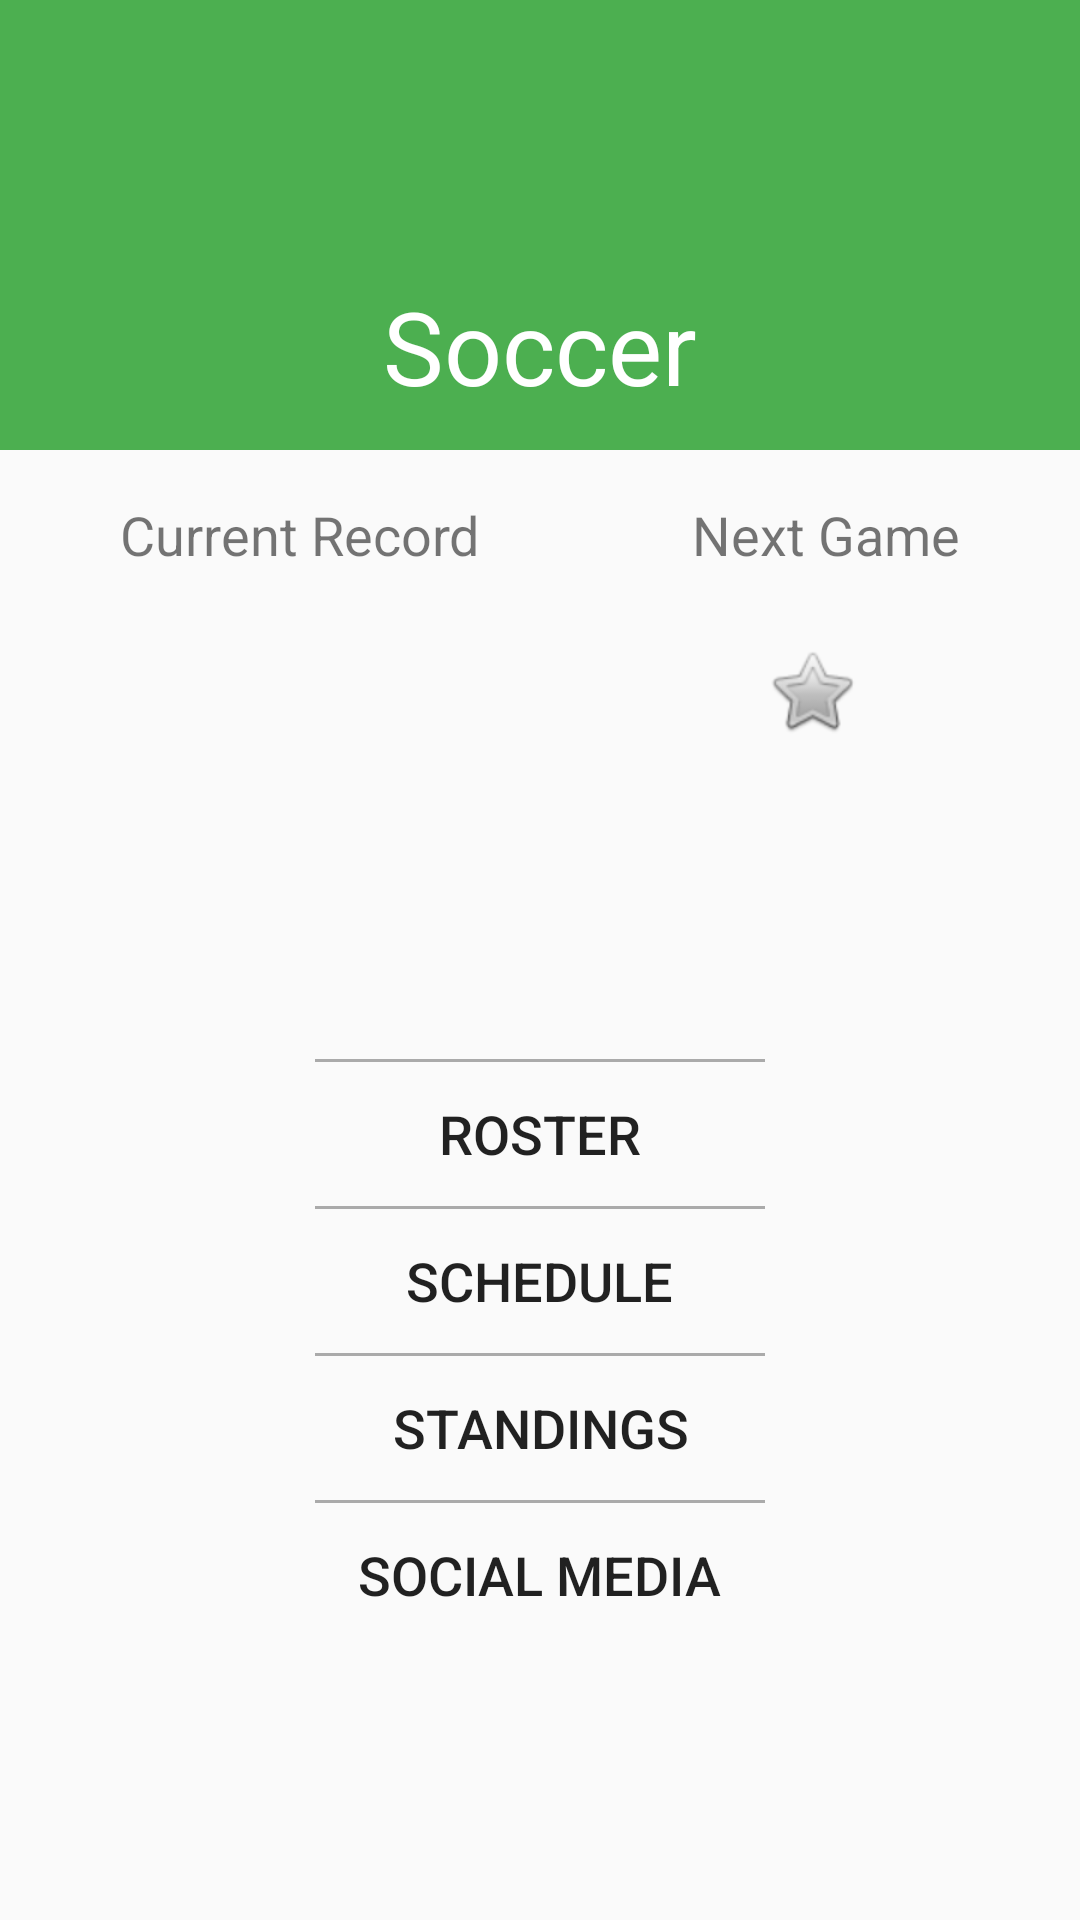

Icons on this 1080*1920 Android screen, each with the point to tap as (x=x, y=y):
star: (x=813, y=692)
